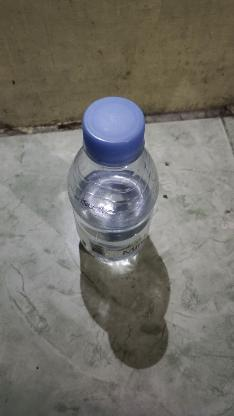Plastic Bottle: (66, 96, 160, 262)
